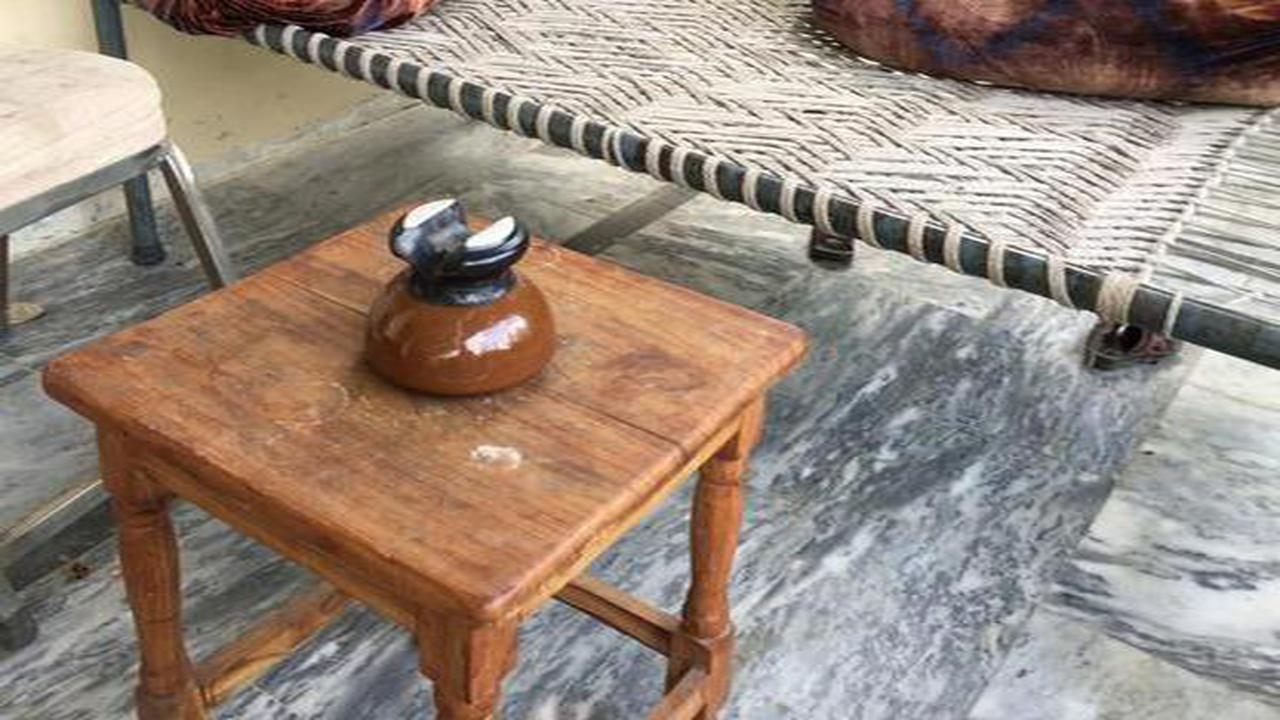insulator_pin: (330, 189, 579, 404)
